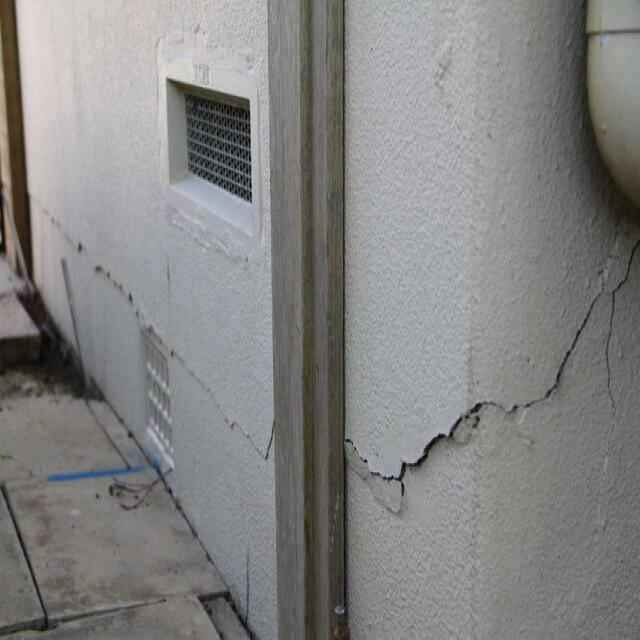Crack: (469, 208, 633, 459), (345, 400, 466, 520)
